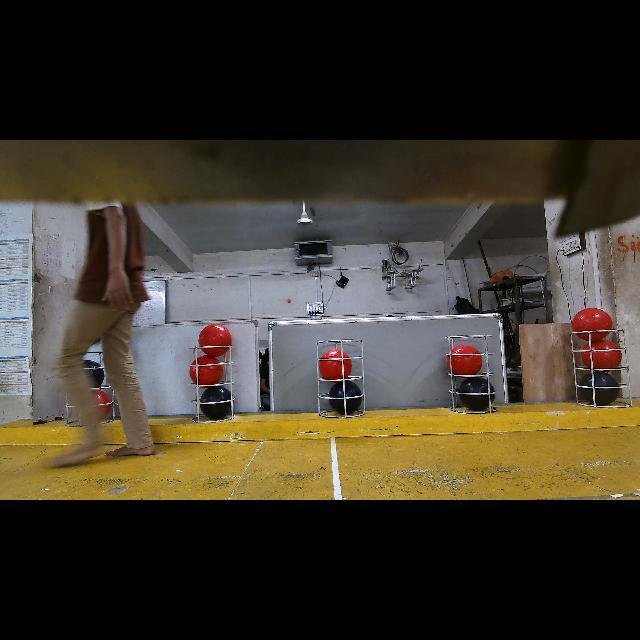P: (579, 371, 620, 406), (458, 376, 495, 411), (329, 380, 362, 415), (200, 386, 231, 420)
R: (572, 308, 612, 341), (581, 340, 622, 369), (199, 324, 232, 356), (319, 349, 352, 380), (448, 345, 482, 375), (190, 355, 222, 385)
S: (444, 336, 504, 432), (566, 327, 632, 411), (317, 336, 377, 422), (195, 337, 243, 421)
